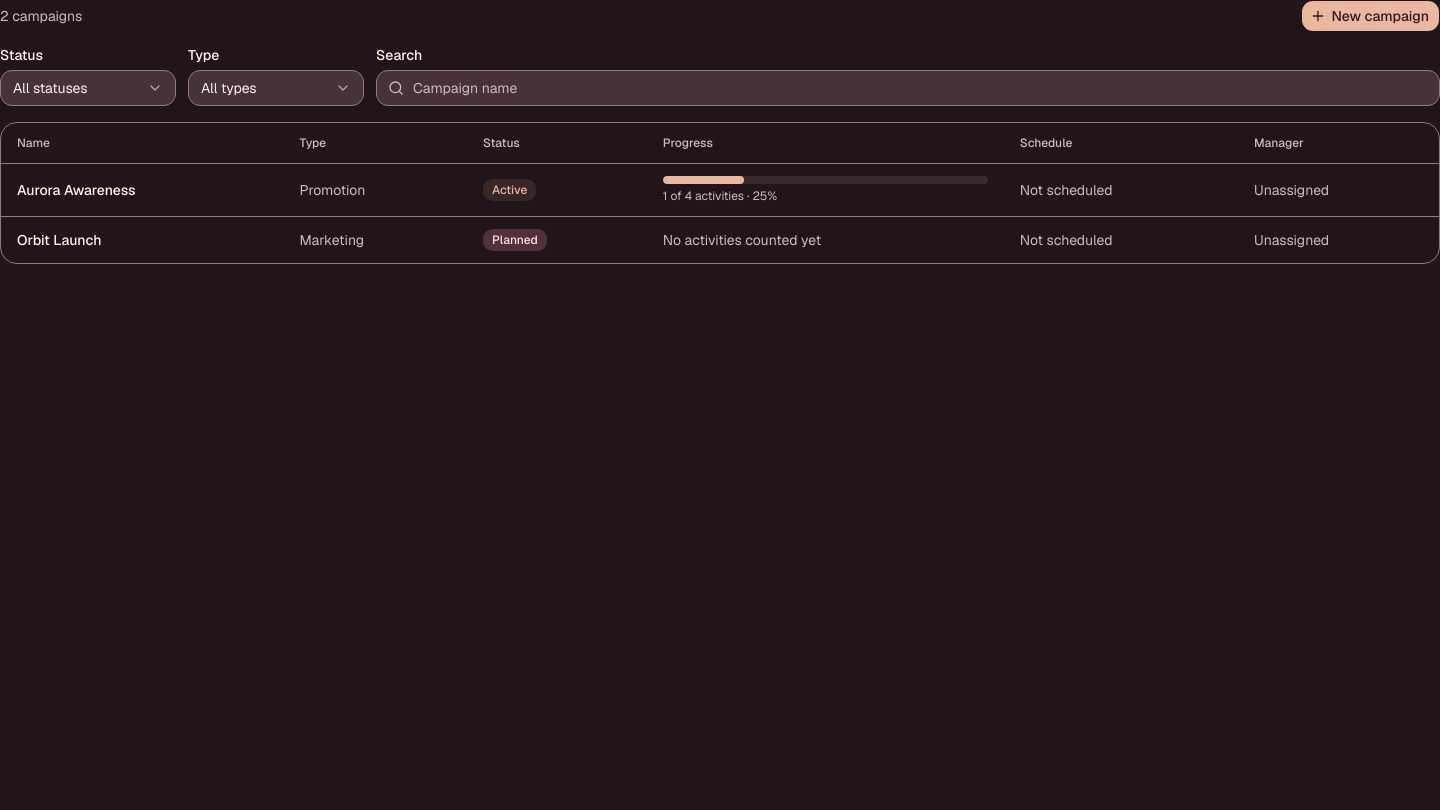
Test case: CampaignsManager API integration › opens the live promotion section only for a promotion campaign
Click the button "Aurora Awareness": (76, 190) [17,180,136,200]
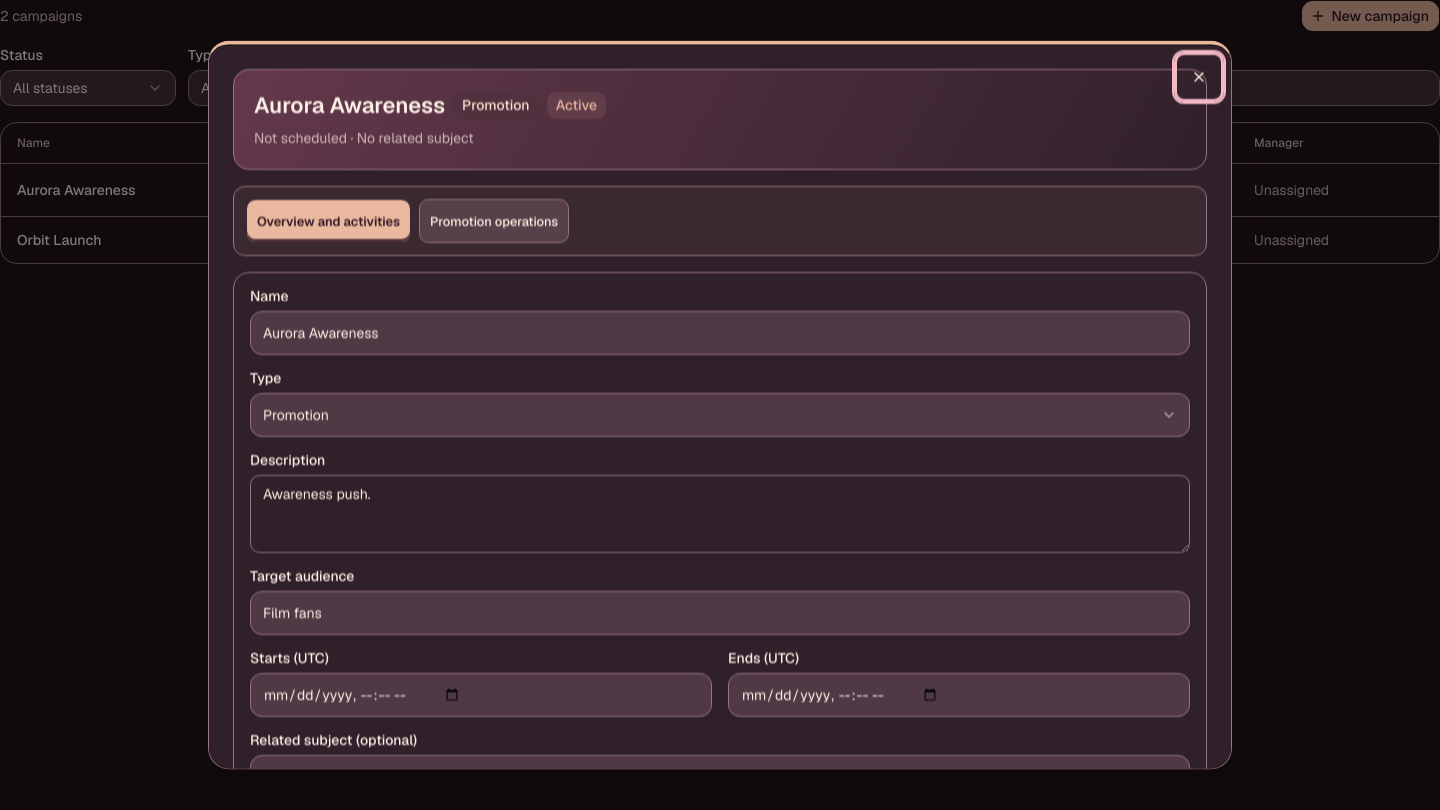
Expected: the heading "Aurora Awareness" is shown, [254,90,445,120]
Click the button "Promotion operations": (494, 221) [419,199,569,243]
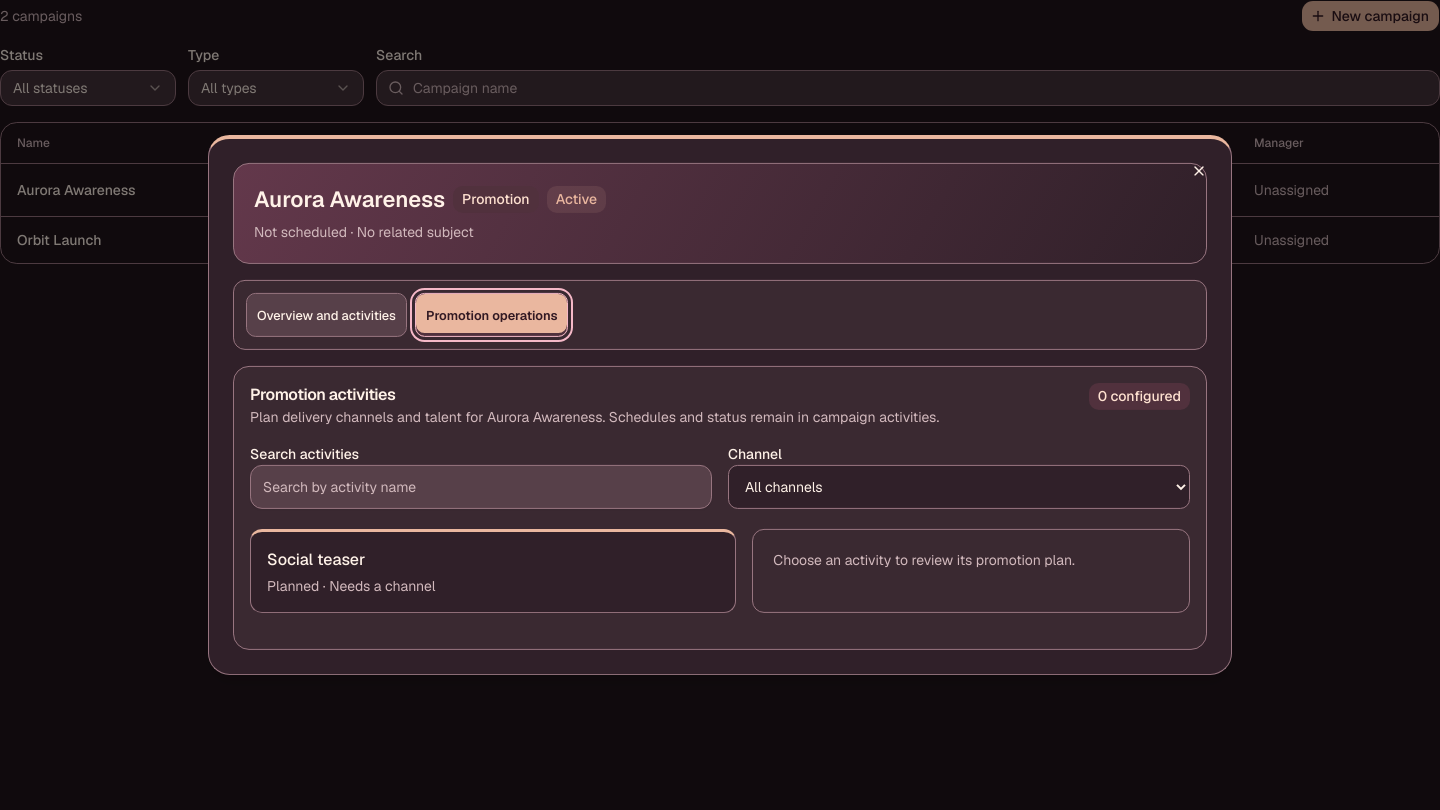
Expected: the button "Social teaser Planned · Needs a channel" is shown, [250,529,736,613]
Click the button "Overview and activities": (326, 315) [246,293,407,337]
(page scrolled)
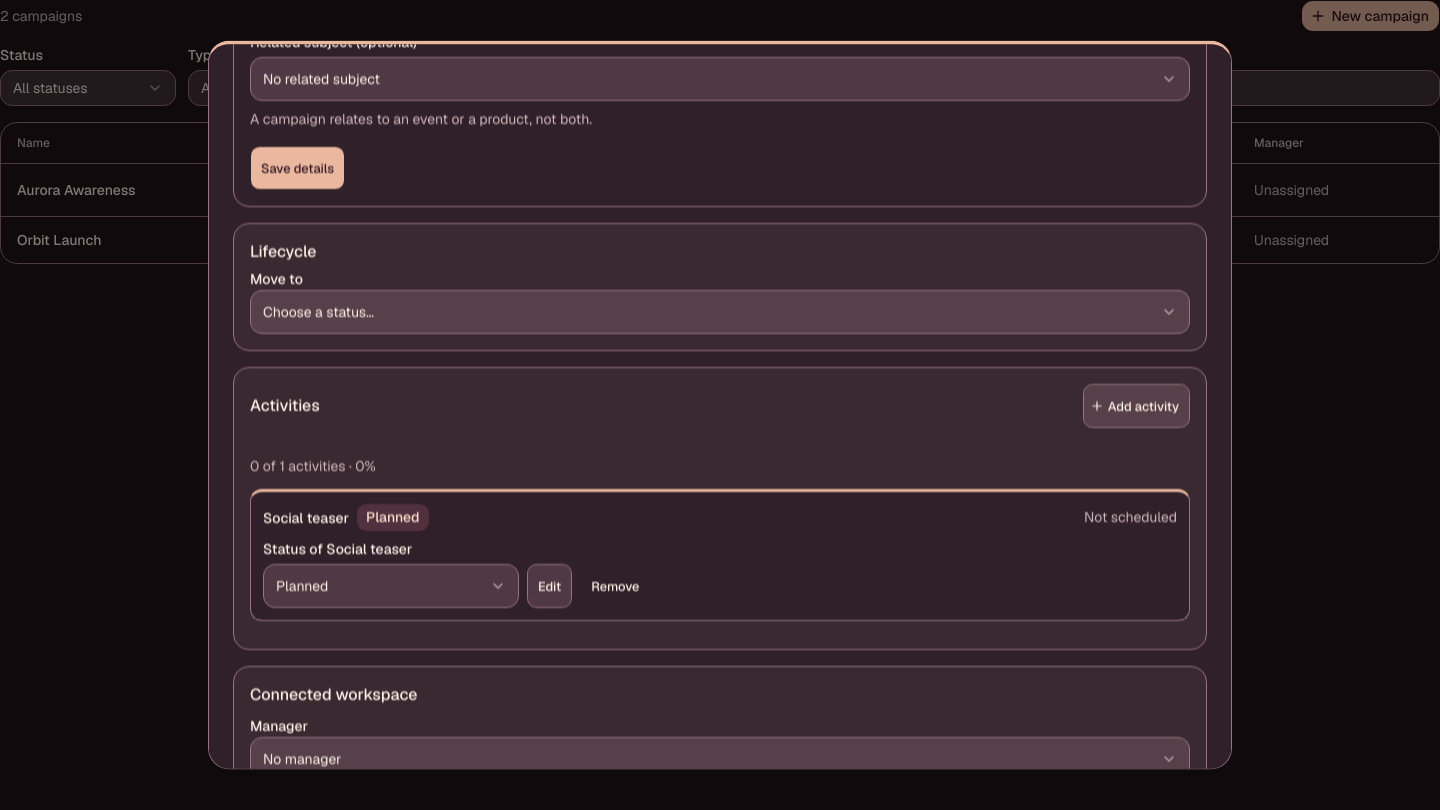
Expected: the text "Activities" is shown, [250,395,320,419]
Press Escape
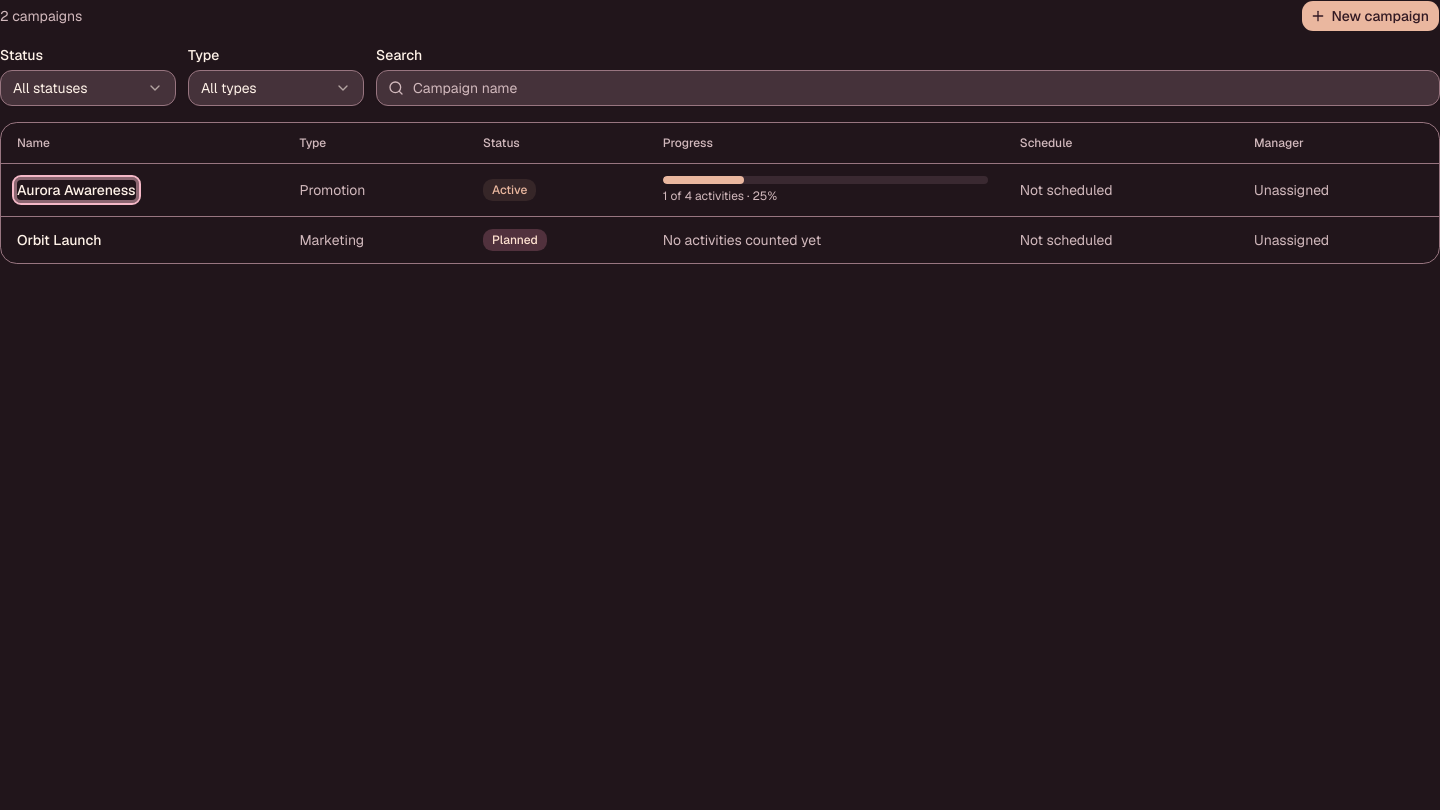
Expected: the dialog is gone
Click the button "Orbit Launch": (59, 240) [17,230,102,250]
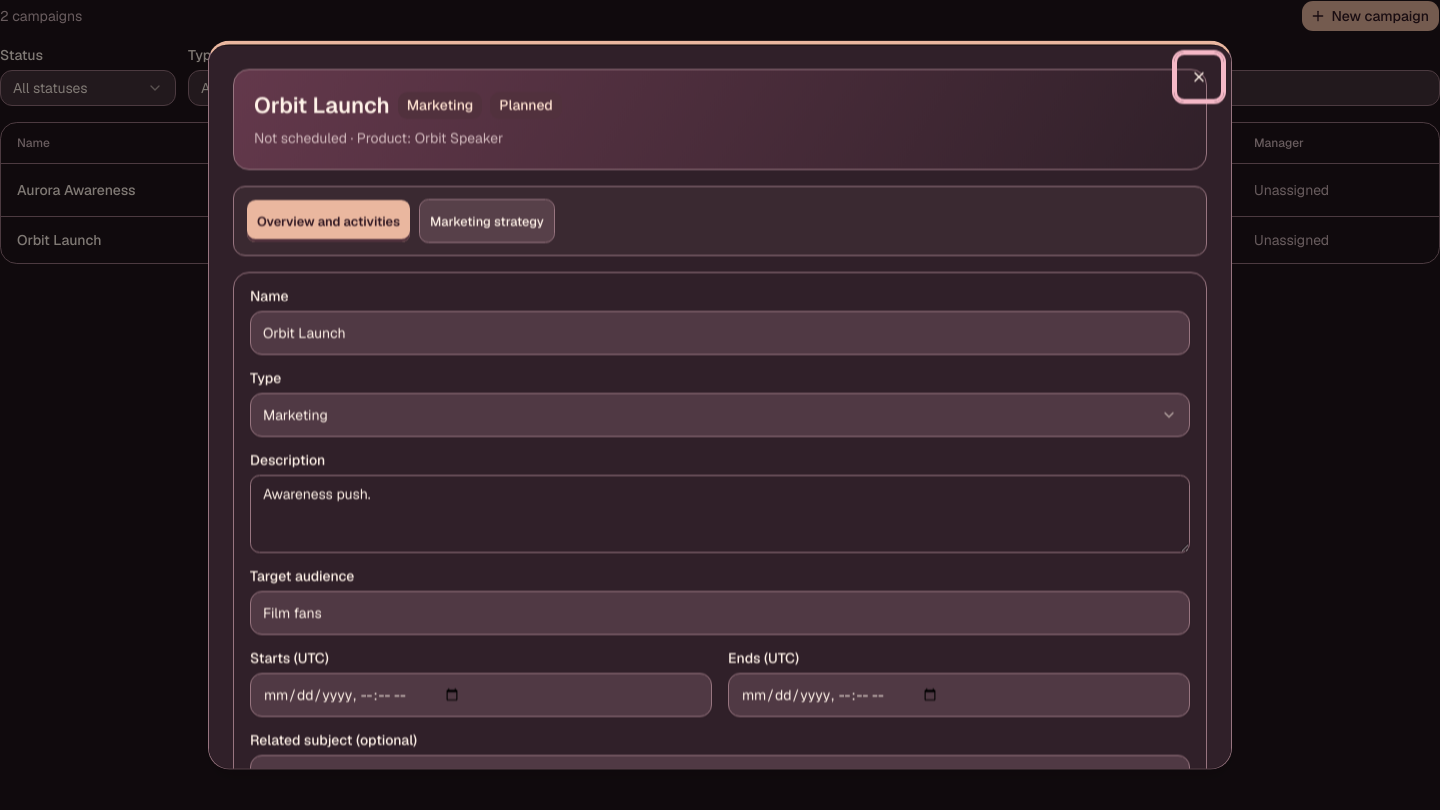
Expected: the button "Promotion operations" is not shown
Expected: the heading "Orbit Launch" is shown, [254,90,390,120]
